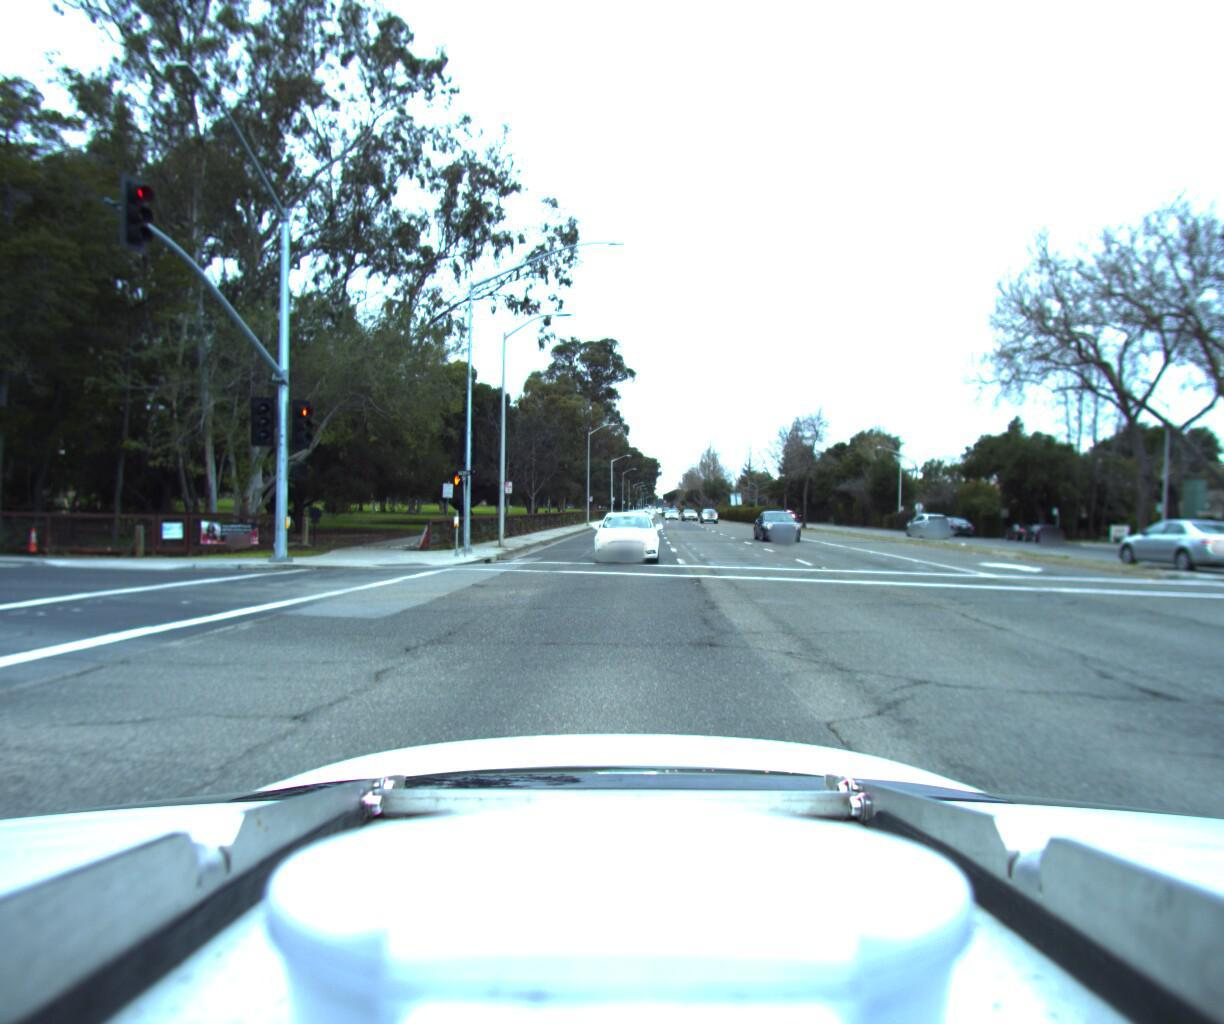car: (1080, 509, 1224, 568), (593, 503, 656, 561), (756, 502, 807, 536), (897, 505, 944, 531), (1017, 515, 1063, 539), (926, 509, 972, 530), (700, 501, 719, 516)
